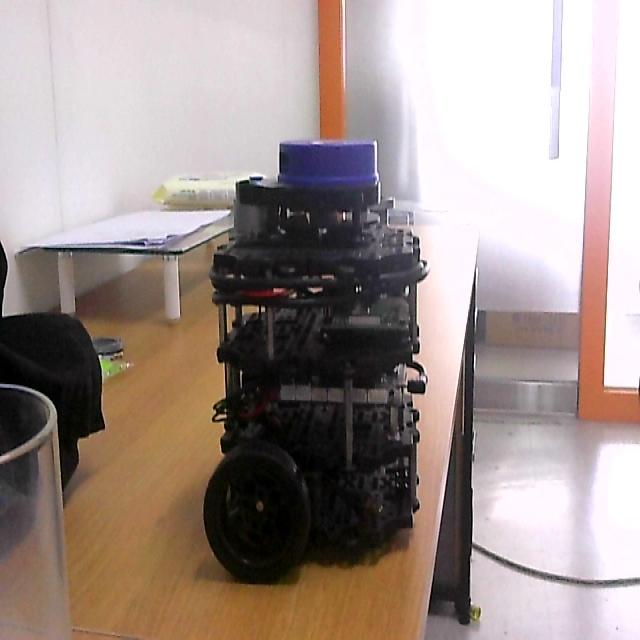turtle: (202, 135, 428, 588)
